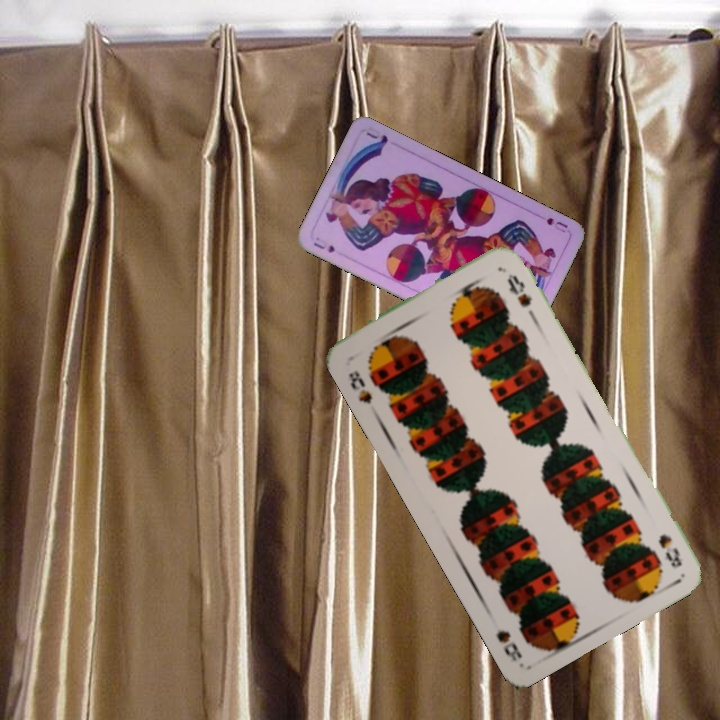S8: (344, 366, 375, 407), (654, 530, 685, 571)
SU: (533, 210, 570, 235), (310, 233, 337, 256)
